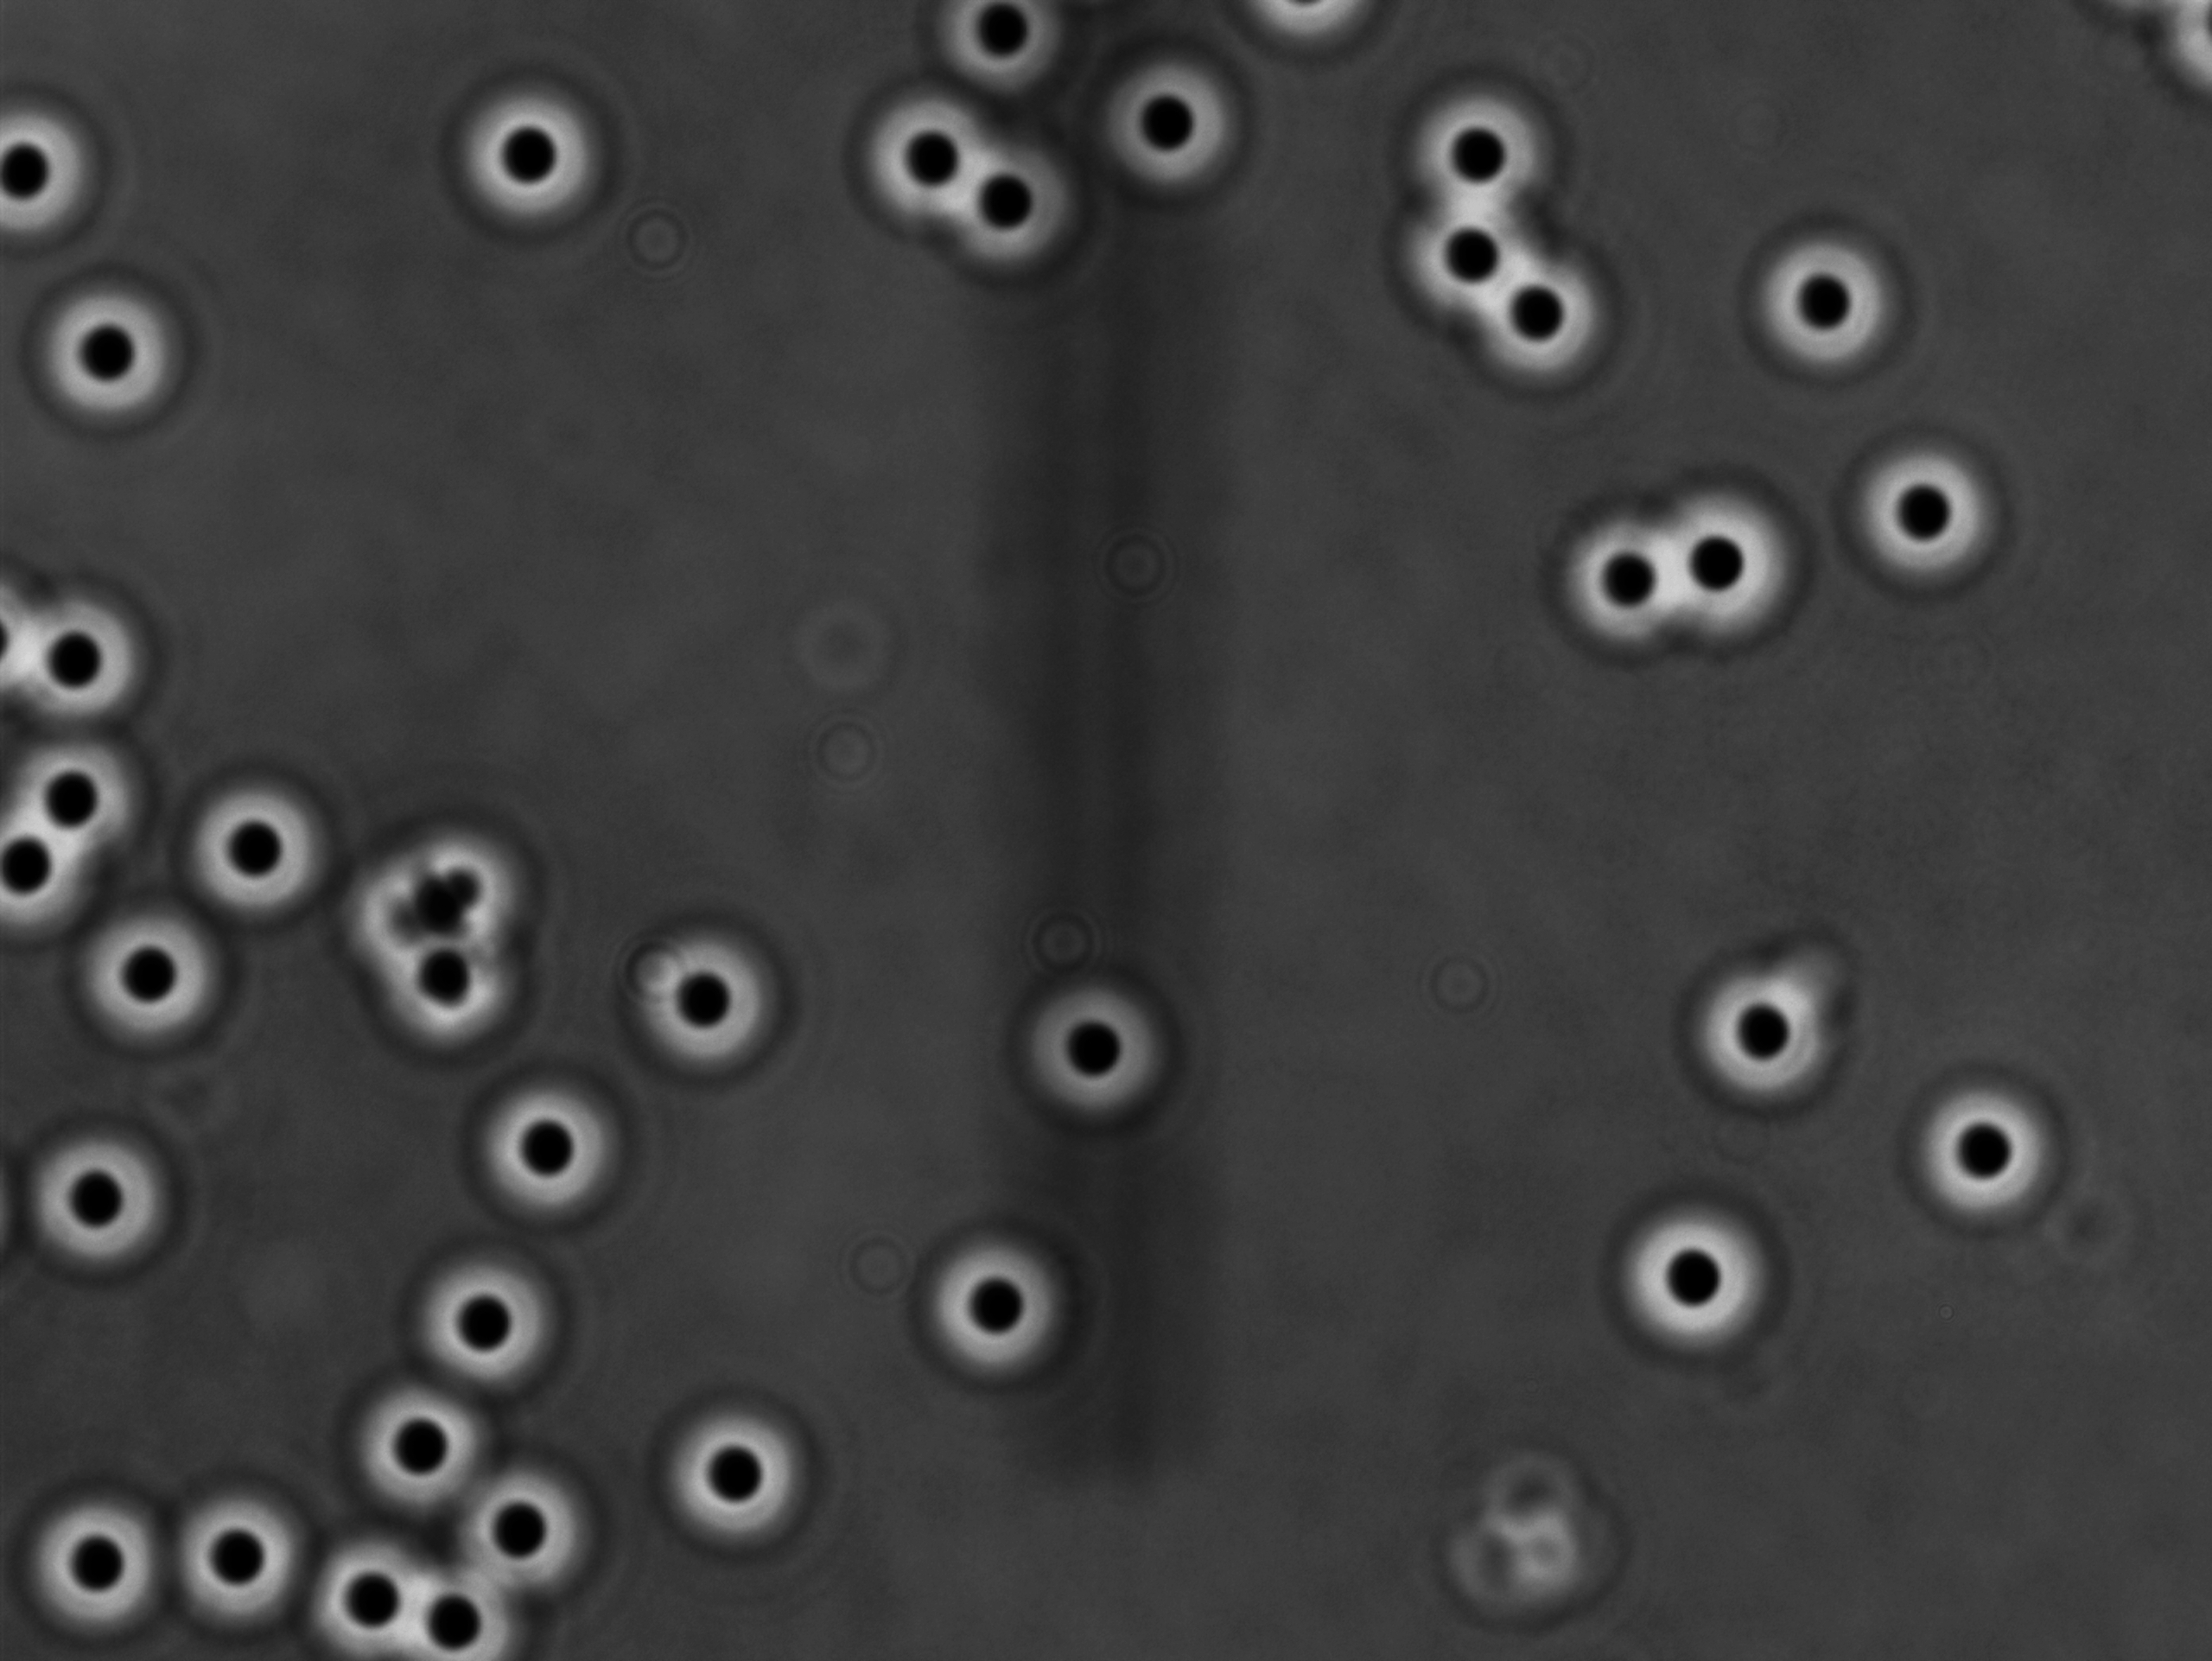depth:-60: (898, 1213, 1106, 1398), (642, 1384, 841, 1562), (1675, 946, 1867, 1122), (1905, 1057, 2085, 1244), (1612, 1186, 1797, 1364), (1839, 433, 2020, 611), (993, 967, 1176, 1139), (37, 265, 216, 433), (1732, 222, 1914, 384), (625, 925, 806, 1085), (59, 902, 244, 1059), (21, 1124, 197, 1288), (164, 775, 340, 937), (1394, 72, 1580, 222), (448, 77, 614, 237), (14, 1490, 174, 1654), (1647, 482, 1807, 646), (1096, 47, 1256, 208), (850, 73, 1015, 229), (1453, 230, 1615, 386), (440, 1460, 598, 1617), (160, 1474, 316, 1635), (1382, 190, 1553, 335), (462, 1068, 630, 1214), (340, 1357, 502, 1507), (406, 1241, 569, 1389), (1547, 497, 1690, 660), (933, 127, 1085, 276), (297, 1546, 433, 1661)
